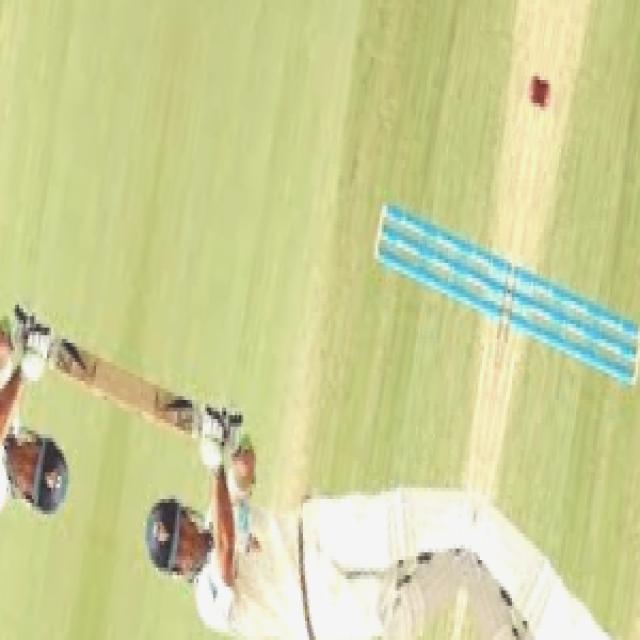toe: (124, 364, 130, 417)
